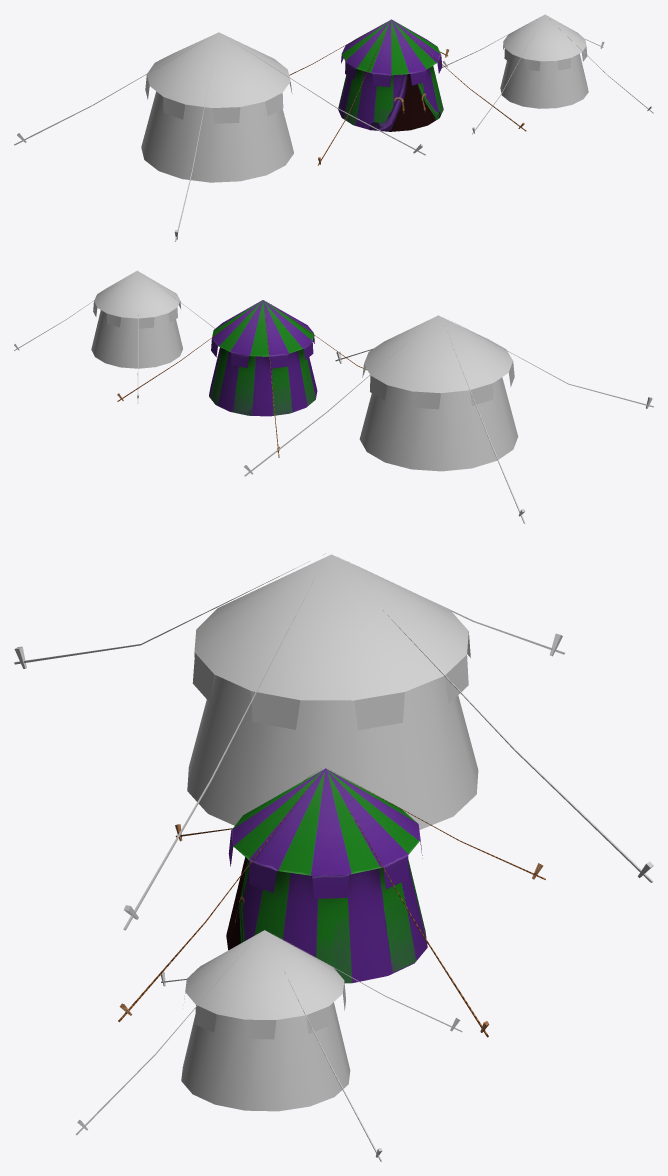
Rendered from Tents.fbx.
3 views of the same model, one above another, from view 1: azimuth 30°, elevation 25°; view 2: azimuth 150°, elevation 25°; view 3: azimuth 270°, elevation 25° (orthographic). The views are drawn at different scales.
Visible parts, largest first — view 1: Environment_Structure_Tent_004, Environment_Structure_Tent_002, Environment_Structure_Tent_003; view 2: Environment_Structure_Tent_004, Environment_Structure_Tent_002, Environment_Structure_Tent_003; view 3: Environment_Structure_Tent_004, Environment_Structure_Tent_002, Environment_Structure_Tent_003.
Part boxes in pixels (x1=…): Environment_Structure_Tent_004: x1=14, y1=32, x2=425, y2=241; Environment_Structure_Tent_002: x1=289, y1=19, x2=526, y2=165; Environment_Structure_Tent_003: x1=442, y1=14, x2=653, y2=134; Environment_Structure_Tent_004: x1=244, y1=315, x2=653, y2=523; Environment_Structure_Tent_002: x1=117, y1=300, x2=367, y2=457; Environment_Structure_Tent_003: x1=14, y1=270, x2=214, y2=403; Environment_Structure_Tent_004: x1=14, y1=553, x2=653, y2=930; Environment_Structure_Tent_002: x1=118, y1=768, x2=545, y2=1037; Environment_Structure_Tent_003: x1=75, y1=930, x2=462, y2=1161.
Size of the model in its own units: 3827 by 835 by 2033.
